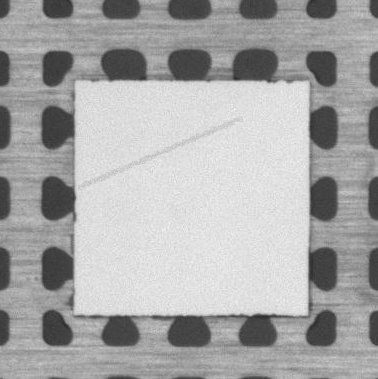DIE_CRACK: (80, 119, 239, 187)
